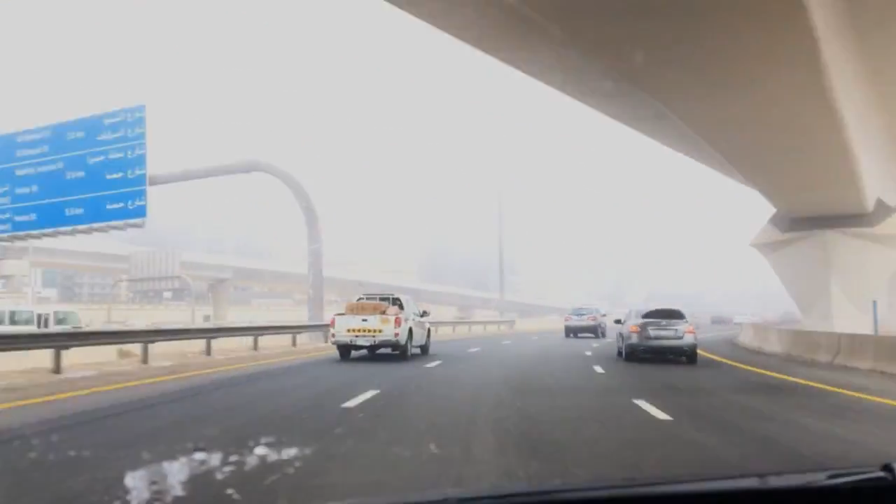bus: (1, 307, 89, 352)
car: (324, 289, 432, 357), (612, 305, 699, 367), (560, 303, 607, 339), (730, 310, 767, 327)
